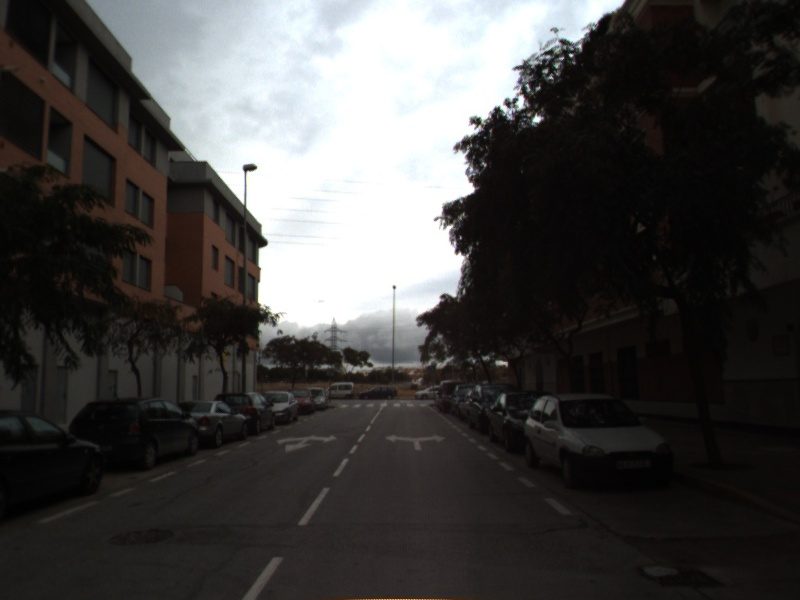LEFT_RIGHT: (383, 432, 449, 452)
